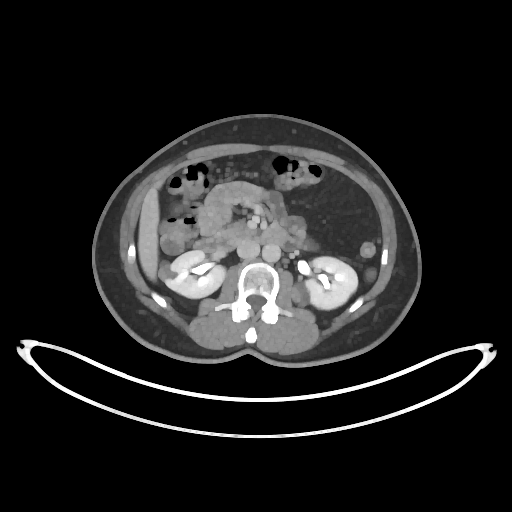Lesion: (153, 259, 181, 284)
